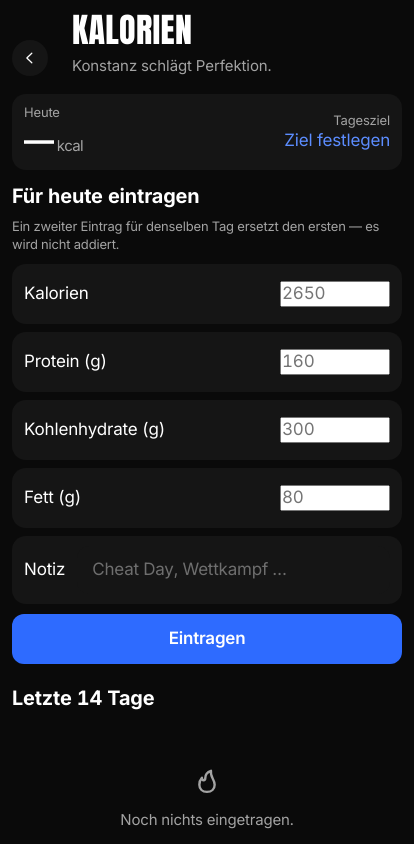
it: Kalorien — Tagesziel › öffnet ein Zahlenfeld ohne vorgeschlagenen Wert, mit Hinweis auf den Rechner
Click the button "Tagesziel Ziel festlegen": (331, 132) [272,108,390,156]
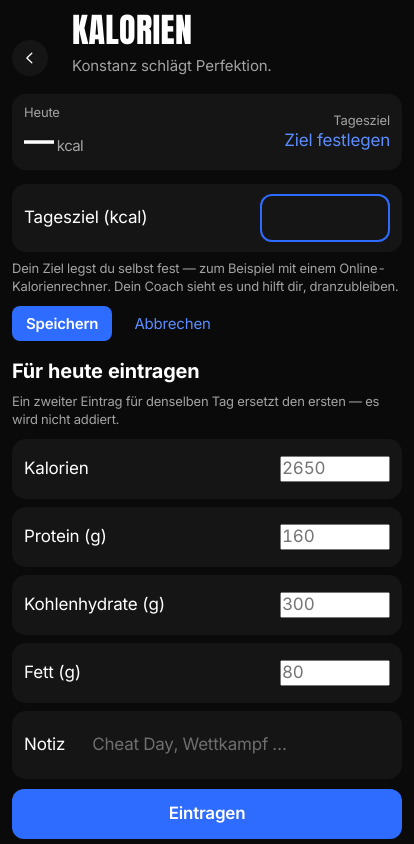
Result: the field named "Tagesziel in kcal" is empty at [260,194,390,242]
Result: the text "Dein Ziel legst du selbst fest" is shown at [12,260,398,294]
